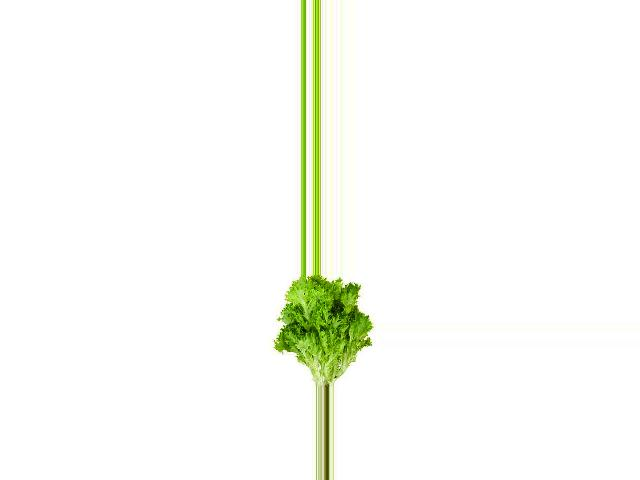lettuce: (273, 276, 377, 387)
